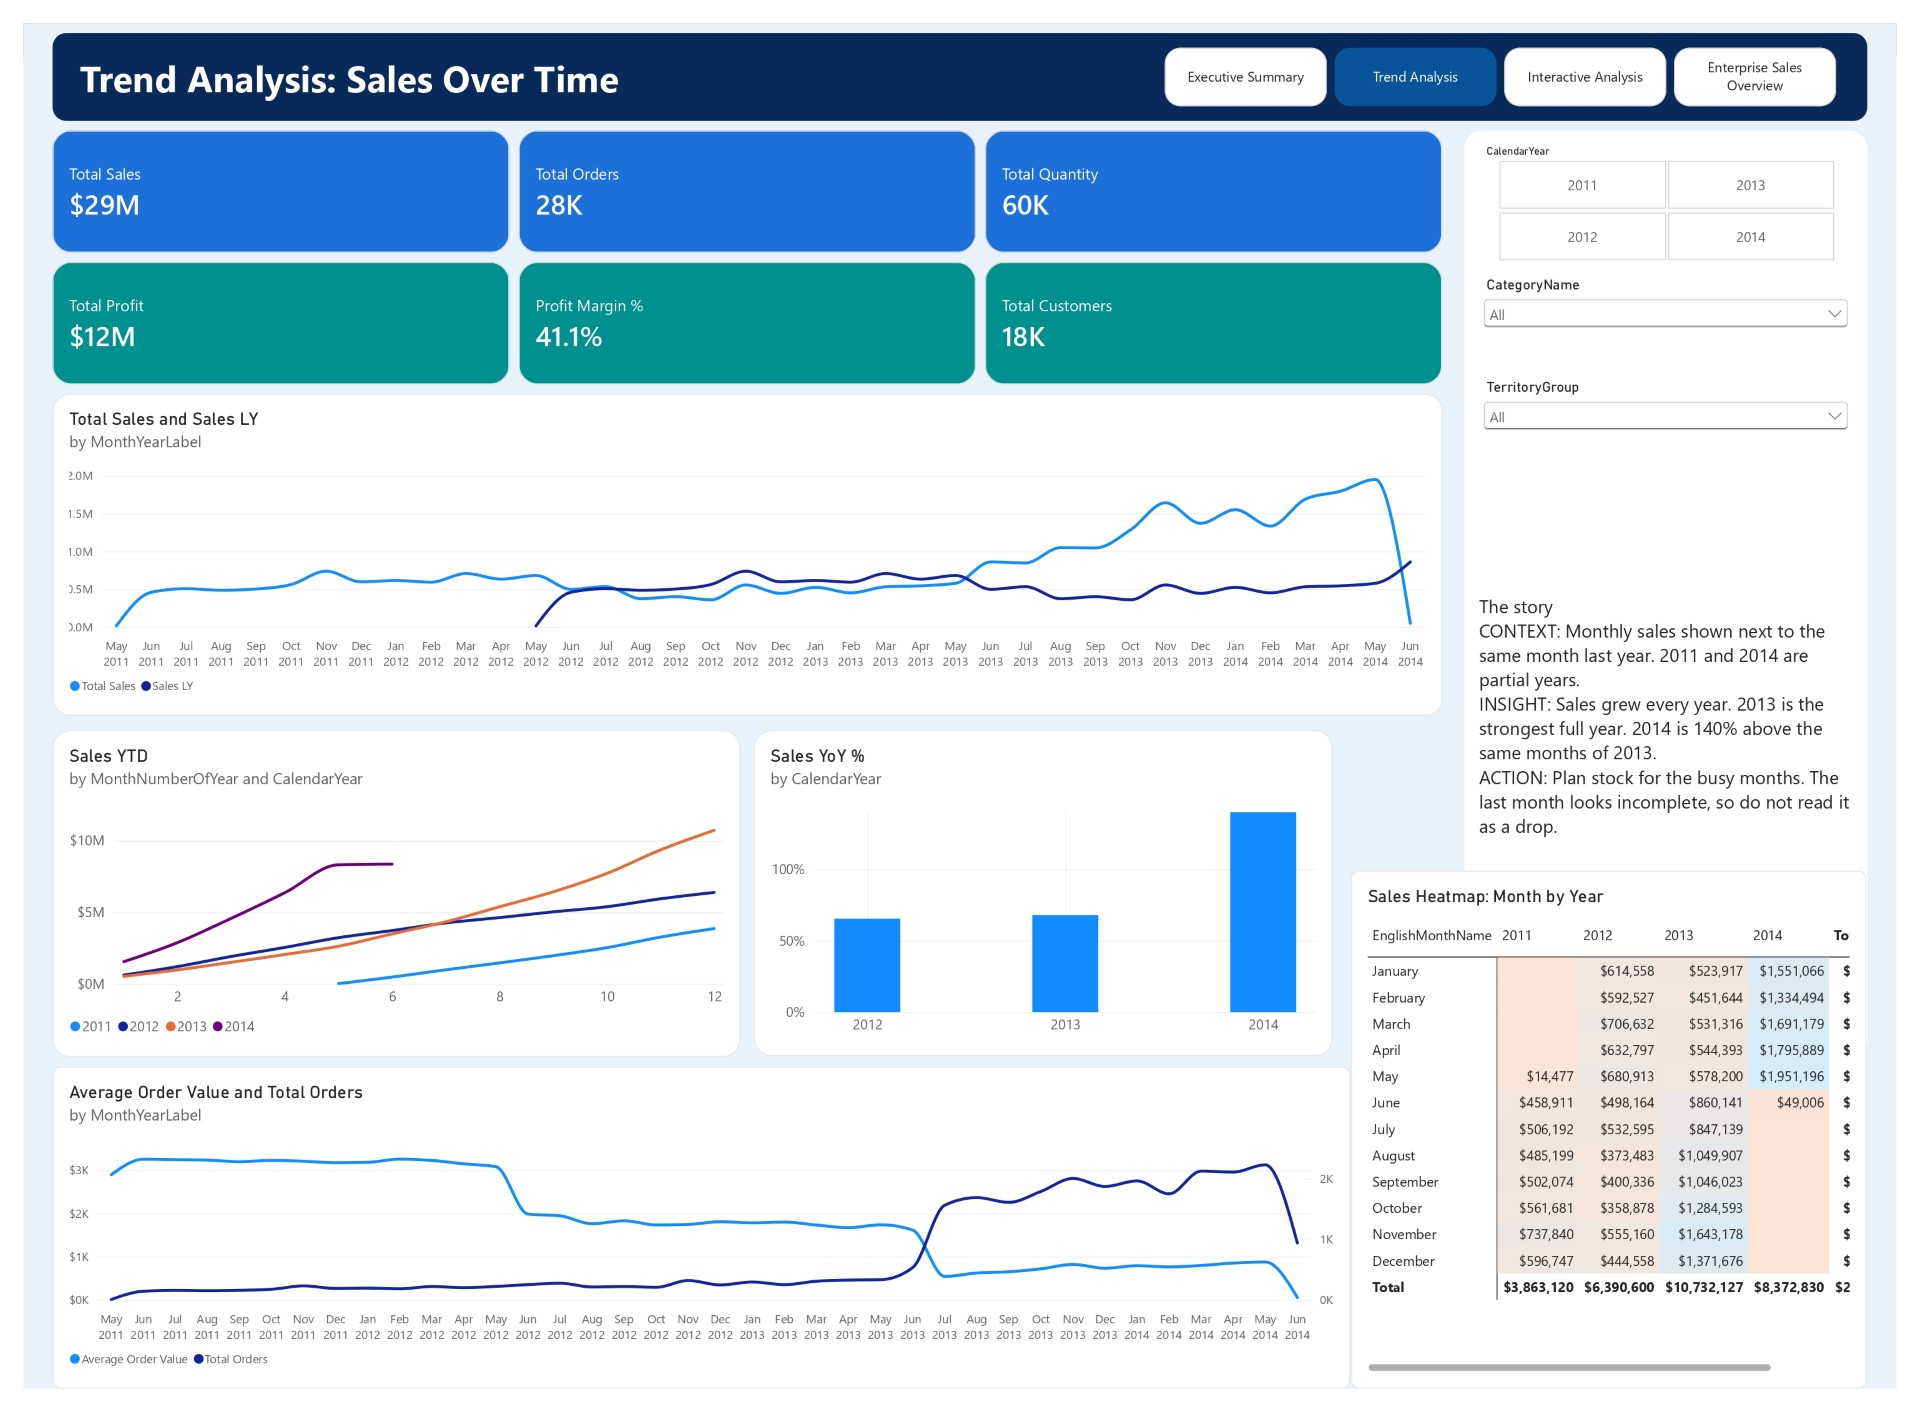

The dashboard page shown, as its layout file describes it:
{"tool":"powerbi","page":{"name":"Trend Analysis","canvas":[1920,1400],"ordinal":2},"visuals":[{"type":"cardVisual","fields":{"Data":["FactInternetSales.Total Sales"]},"box":[30,110,468,125],"z":0},{"type":"cardVisual","fields":{"Data":["FactInternetSales.Total Orders"]},"box":[508,110,468,125],"z":1000},{"type":"cardVisual","fields":{"Data":["FactInternetSales.Total Quantity"]},"box":[986,110,468,125],"z":2000},{"type":"cardVisual","fields":{"Data":["FactInternetSales.Total Profit"]},"box":[30,245,468,125],"z":3000},{"type":"cardVisual","fields":{"Data":["FactInternetSales.Profit Margin %"]},"box":[508,245,468,125],"z":4000},{"type":"cardVisual","fields":{"Data":["FactInternetSales.Total Customers"]},"box":[986,245,468,125],"z":5000},{"type":"shape","box":[30,10,1860,90],"z":6000},{"type":"shape","box":[1477,110,413,950],"z":7000},{"type":"slicer","fields":{"Values":["DimDate.CalendarYear"]},"box":[1492,125,383,120],"z":8000},{"type":"slicer","fields":{"Values":["DimProduct.CategoryName"]},"box":[1492,260,383,90],"z":9000},{"type":"slicer","fields":{"Values":["DimTerritory.TerritoryGroup"]},"box":[1492,365,383,90],"z":10000},{"type":"textbox","box":[1492,585,383,450],"z":12000},{"type":"lineChart","fields":{"Category":["DimDate.MonthYearLabel"],"Y":["FactInternetSales.Total Sales","FactInternetSales.Sales LY"]},"box":[30,380,1425,330],"z":13000},{"type":"lineChart","fields":{"Category":["DimDate.MonthNumberOfYear"],"Series":["DimDate.CalendarYear"],"Y":["FactInternetSales.Sales YTD"]},"box":[30,725,705,335],"z":14000},{"type":"clusteredColumnChart","fields":{"Category":["DimDate.CalendarYear"],"Y":["_Measures.Sales YoY %"]},"box":[749.4,724.6,592.5,334.5],"z":15000},{"type":"pageNavigator","box":[1170,25,690,60],"z":16000},{"type":"lineChart","fields":{"Category":["DimDate.MonthYearLabel"],"Y":["_Measures.Average Order Value"],"Y2":["_Measures.Total Orders"]},"box":[30,1070,1330,330],"z":17000},{"type":"pivotTable","title":"Sales Heatmap: Month by Year","fields":{"Columns":["DimDate.CalendarYear"],"Rows":["DimDate.EnglishMonthName"],"Values":["_Measures.Total Sales"]},"box":[1360.5,869.2,528.5,530.6],"z":17001}]}

Visuals, with their boxes in screenshot pixels (x1, y1, x2, y2), scaled from the page's 1920x1400 canvas onto the 1920x1412 screenshot:
cardVisual - FactInternetSales.Total Sales: crop(30, 111, 498, 237)
cardVisual - FactInternetSales.Total Orders: crop(508, 111, 976, 237)
cardVisual - FactInternetSales.Total Quantity: crop(986, 111, 1454, 237)
cardVisual - FactInternetSales.Total Profit: crop(30, 247, 498, 373)
cardVisual - FactInternetSales.Profit Margin %: crop(508, 247, 976, 373)
cardVisual - FactInternetSales.Total Customers: crop(986, 247, 1454, 373)
shape: crop(30, 10, 1890, 101)
shape: crop(1477, 111, 1890, 1069)
slicer - DimDate.CalendarYear: crop(1492, 126, 1875, 247)
slicer - DimProduct.CategoryName: crop(1492, 262, 1875, 353)
slicer - DimTerritory.TerritoryGroup: crop(1492, 368, 1875, 459)
textbox: crop(1492, 590, 1875, 1044)
lineChart - DimDate.MonthYearLabel x FactInternetSales.Total Sales: crop(30, 383, 1455, 716)
lineChart - DimDate.MonthNumberOfYear x DimDate.CalendarYear: crop(30, 731, 735, 1069)
clusteredColumnChart - DimDate.CalendarYear x _Measures.Sales YoY %: crop(749, 731, 1342, 1068)
pageNavigator: crop(1170, 25, 1860, 86)
lineChart - DimDate.MonthYearLabel x _Measures.Average Order Value: crop(30, 1079, 1360, 1411)
"Sales Heatmap: Month by Year" pivotTable: crop(1360, 877, 1889, 1411)
